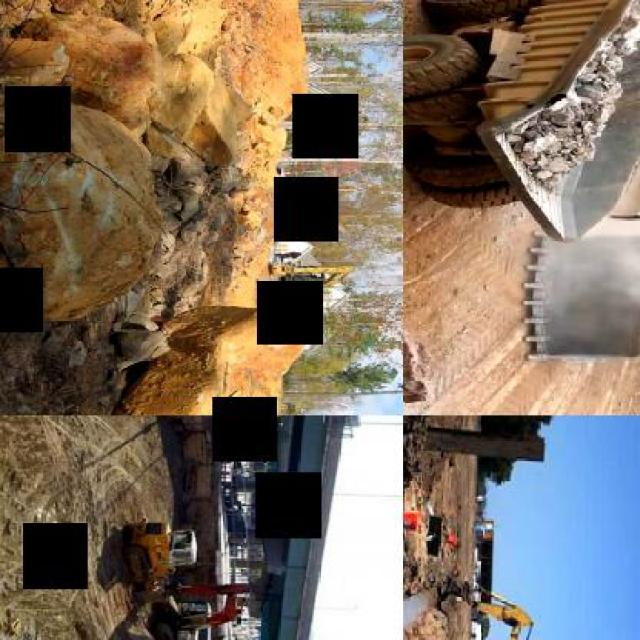buldozerpayloadergrader: (518, 224, 638, 370)
dump_truck: (403, 0, 639, 243)
excavator: (415, 568, 534, 638), (131, 578, 252, 638), (266, 257, 354, 303)
